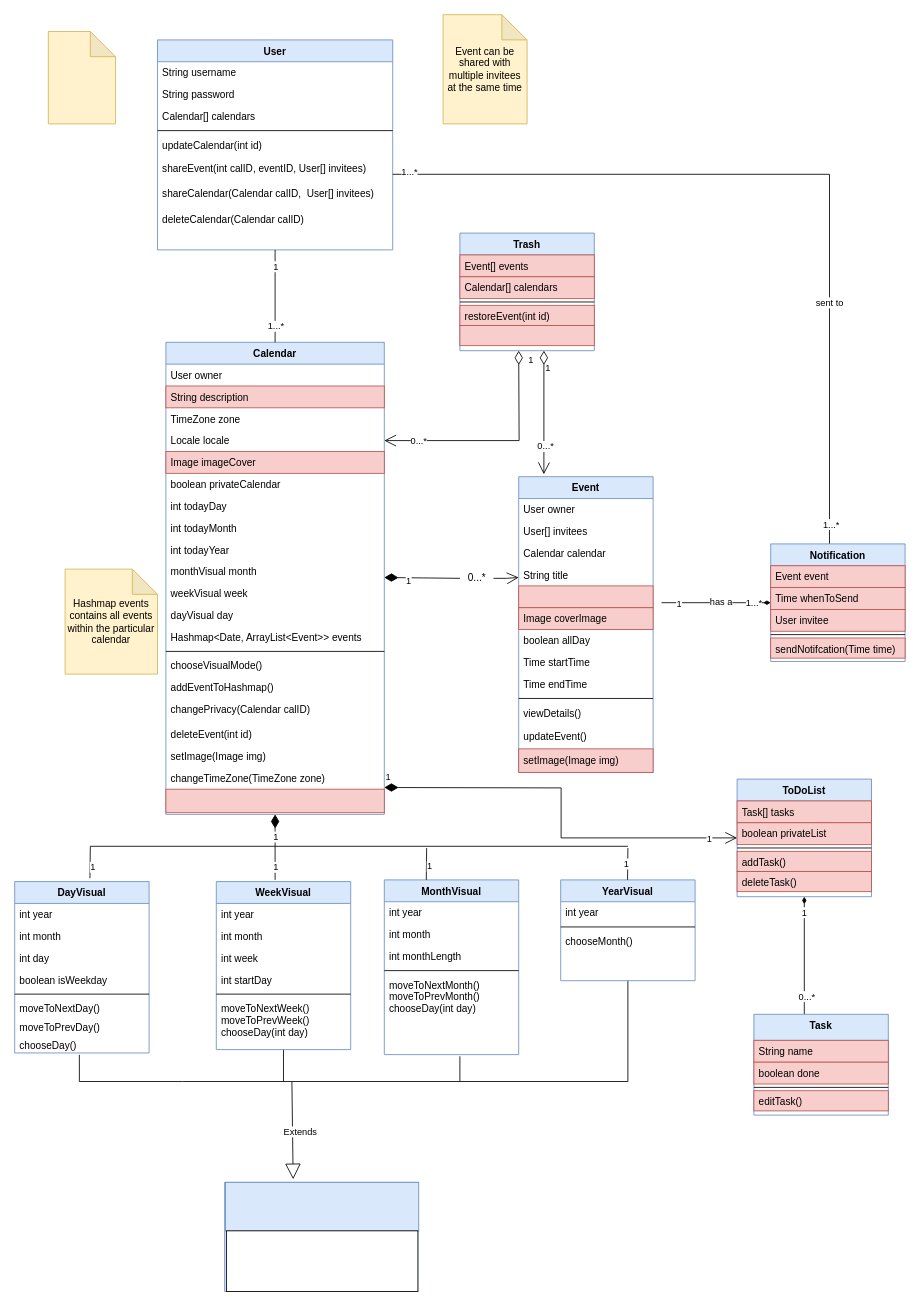
Image size: 920x1306. Some labels were removed from this diagram. Each missing label, with the centre of its shape:
"addEvent() chooseEvent() deleteEvent(int id) viewEvents()" goes at (322,1261).
"Application shall support multiple users" goes at (81,77).
"editDescription()" goes at (274,800).
"restoreCalendar(int id)" goes at (526,335).
"String notes" goes at (585,596).
"«interface» EventController" goes at (322,1206).
